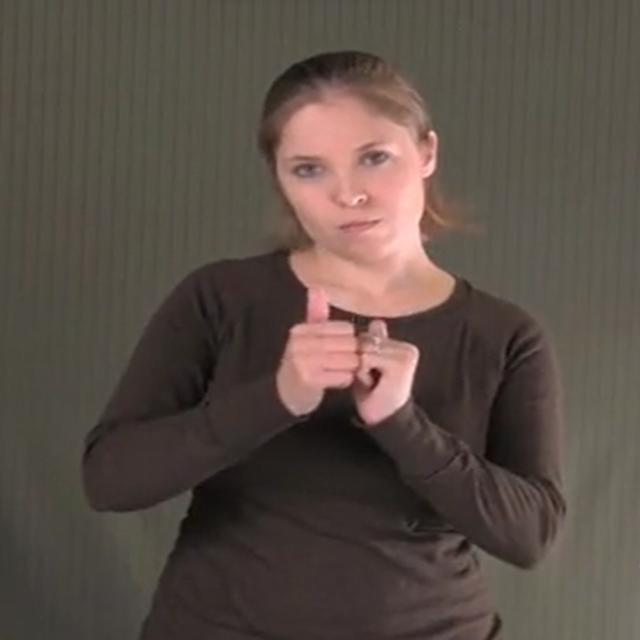how: (279, 286, 419, 414)
